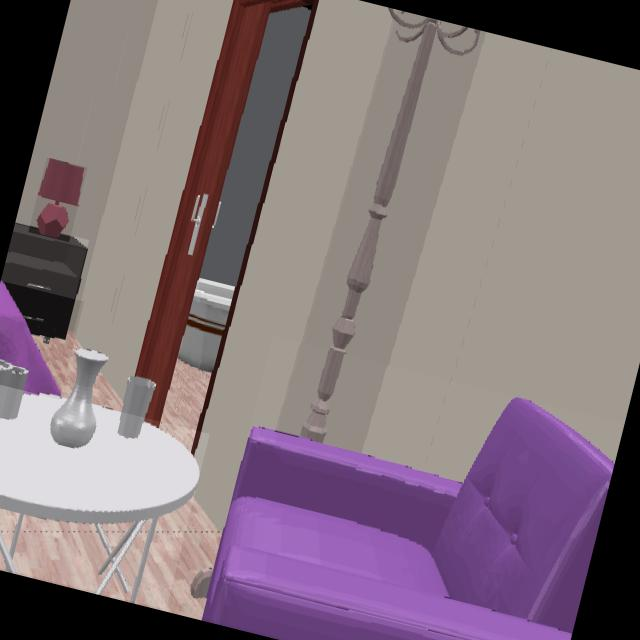bathtube: (178, 279, 234, 371)
bed: (0, 281, 60, 395)
lamp: (37, 159, 84, 238)
nighttable: (1, 224, 86, 340)
sofa: (203, 398, 613, 640)
table: (0, 394, 198, 601)
